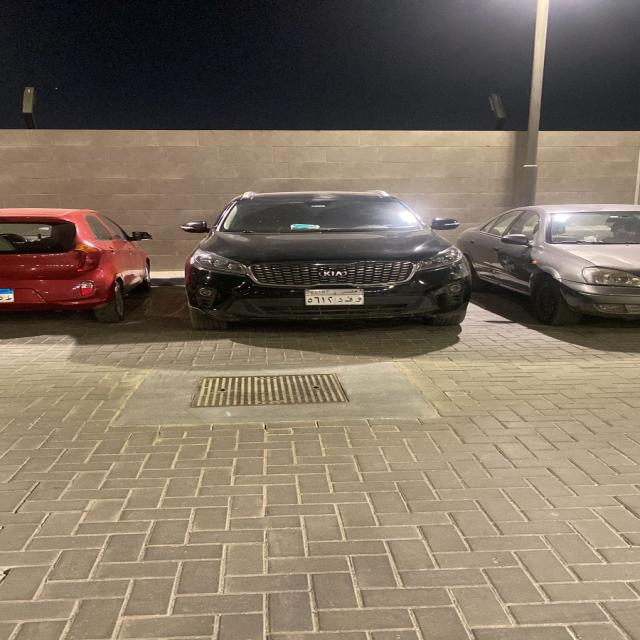car-plate: (306, 290, 364, 305)
